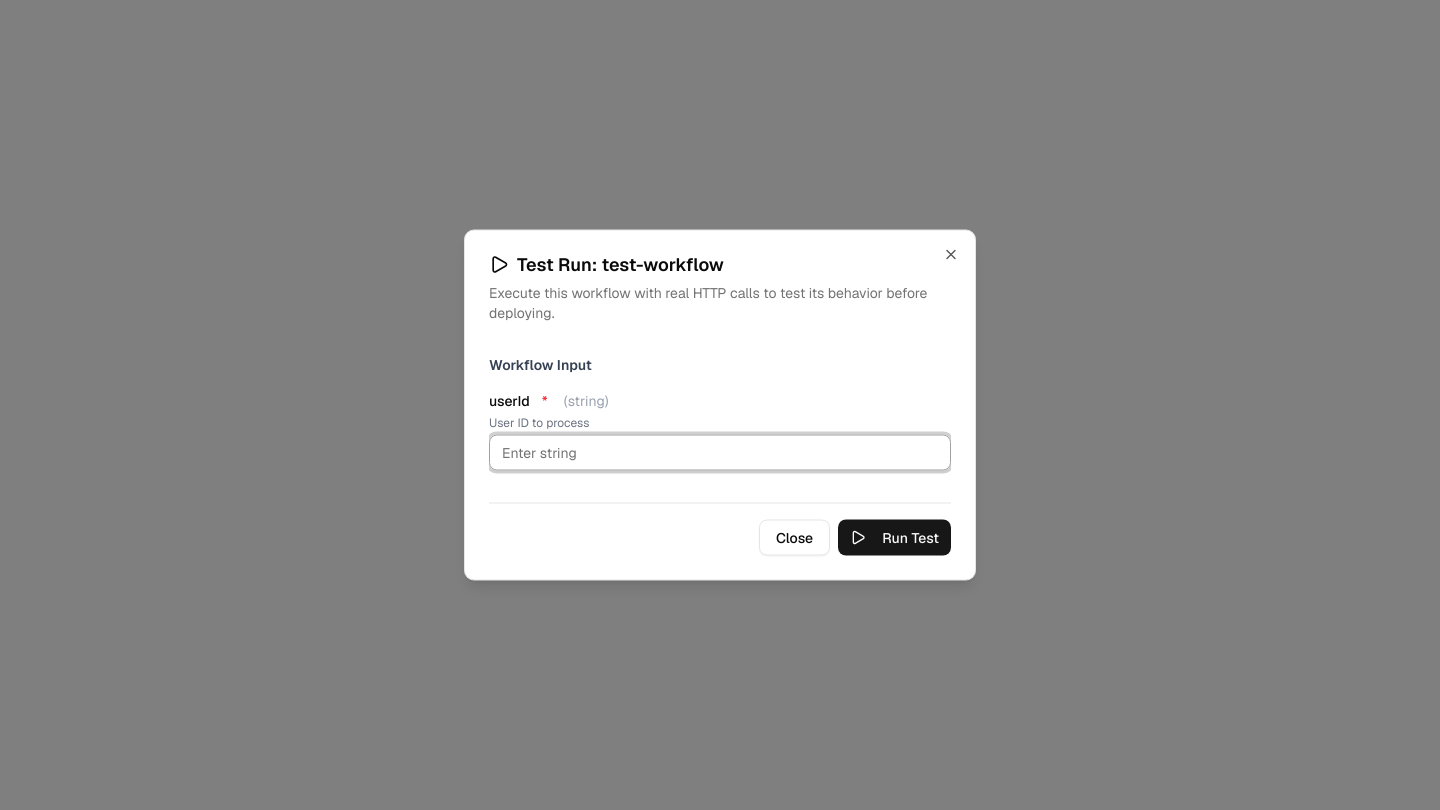
Scenario: TestRunModal › displays error result
The image size is (1440, 810).
Note: Click run test
Step 1. Click the button "Run Test" → [895, 538], box [838,520,951,556]
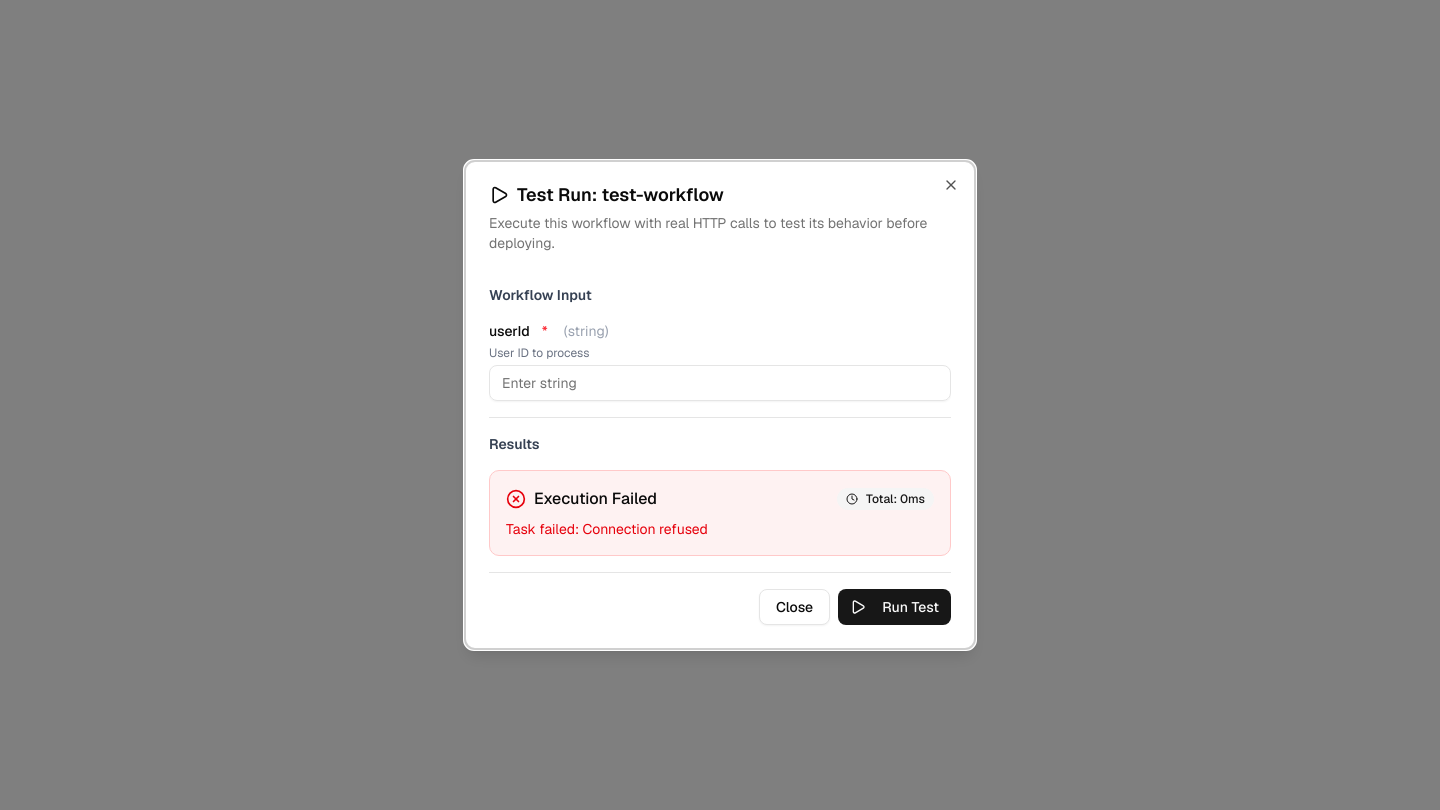
Check: the text "Execution Failed" is shown, box [534,487,657,511]
Check: the text "Task failed: Connection refused" is shown, box [506,520,708,538]
